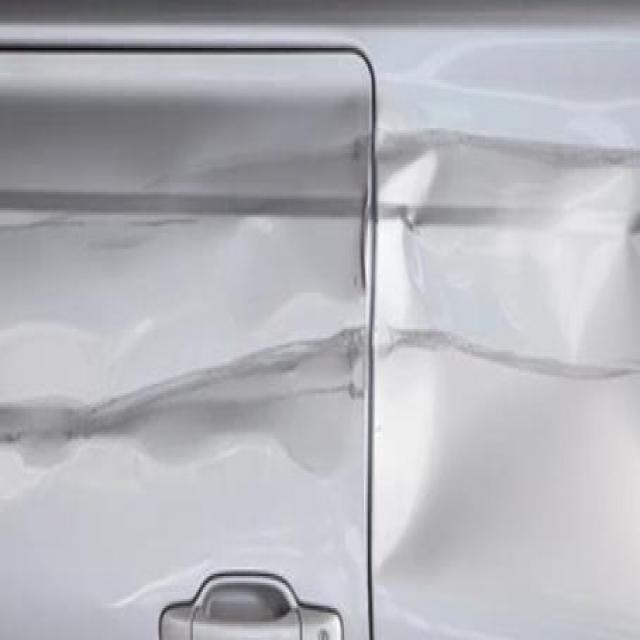dent: (5, 267, 362, 544), (370, 115, 640, 440)
